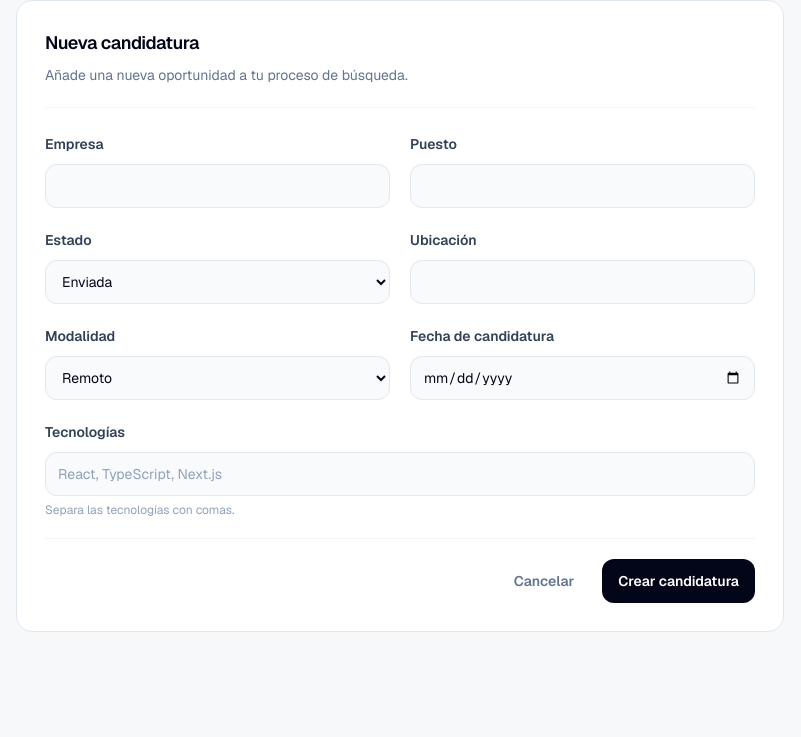
Test case: ApplicationForm › muestra errores y no envía el formulario inválido
The image size is (801, 737).
Click the button "Crear candidatura" at coordinates (679, 581), box x1=602 y1=559 x2=755 y2=603
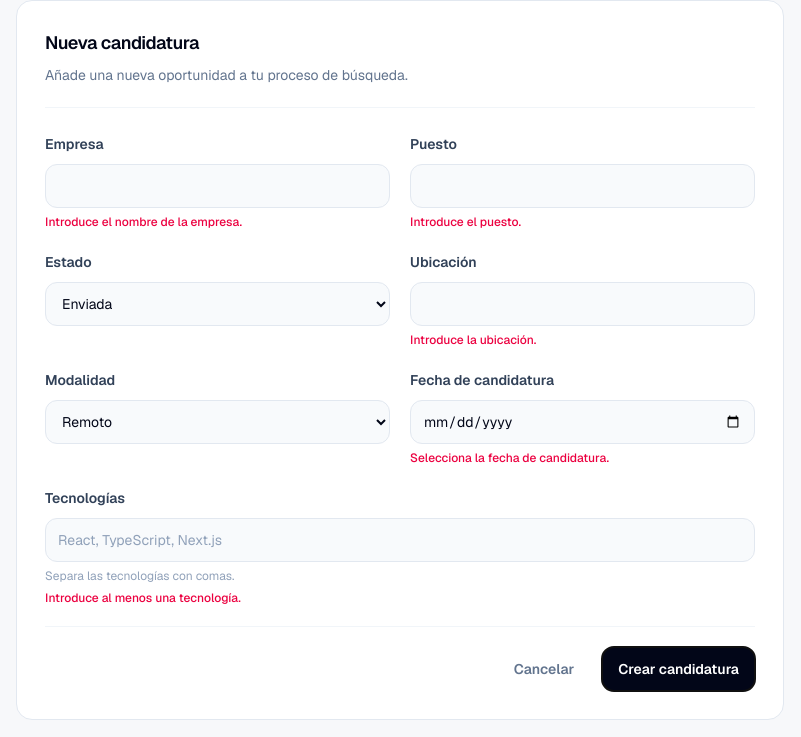
Check: the text "Introduce el nombre de la empresa." is shown, box x1=45 y1=214 x2=242 y2=230
Check: the text "Introduce el puesto." is shown, box x1=410 y1=214 x2=521 y2=230
Check: the text "Introduce la ubicación." is shown, box x1=410 y1=332 x2=536 y2=348
